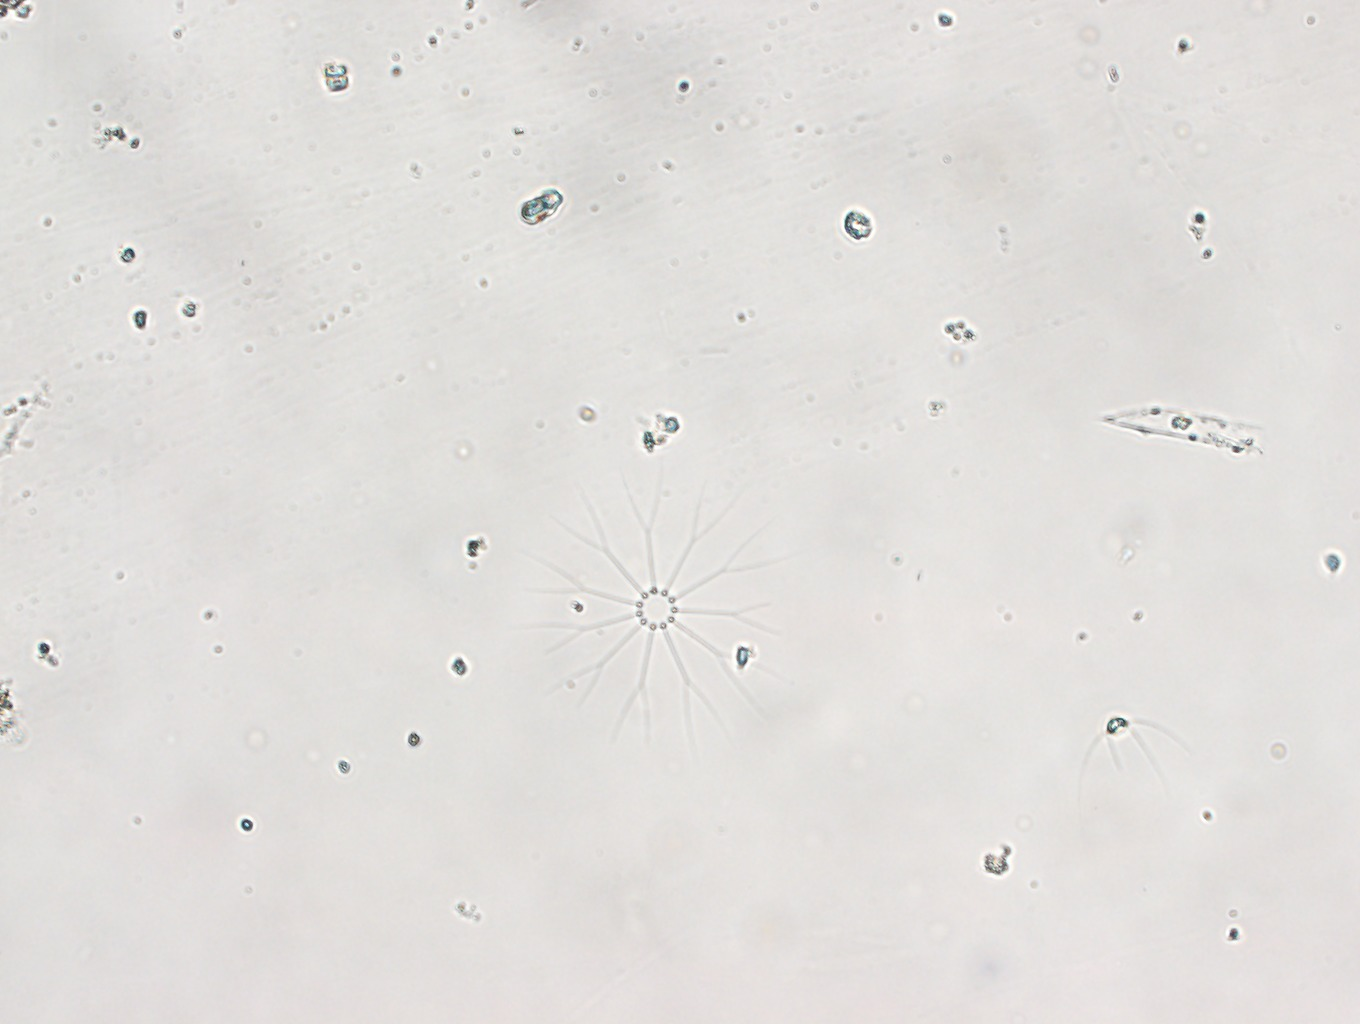bacteriastrum: (518, 467, 810, 752)
